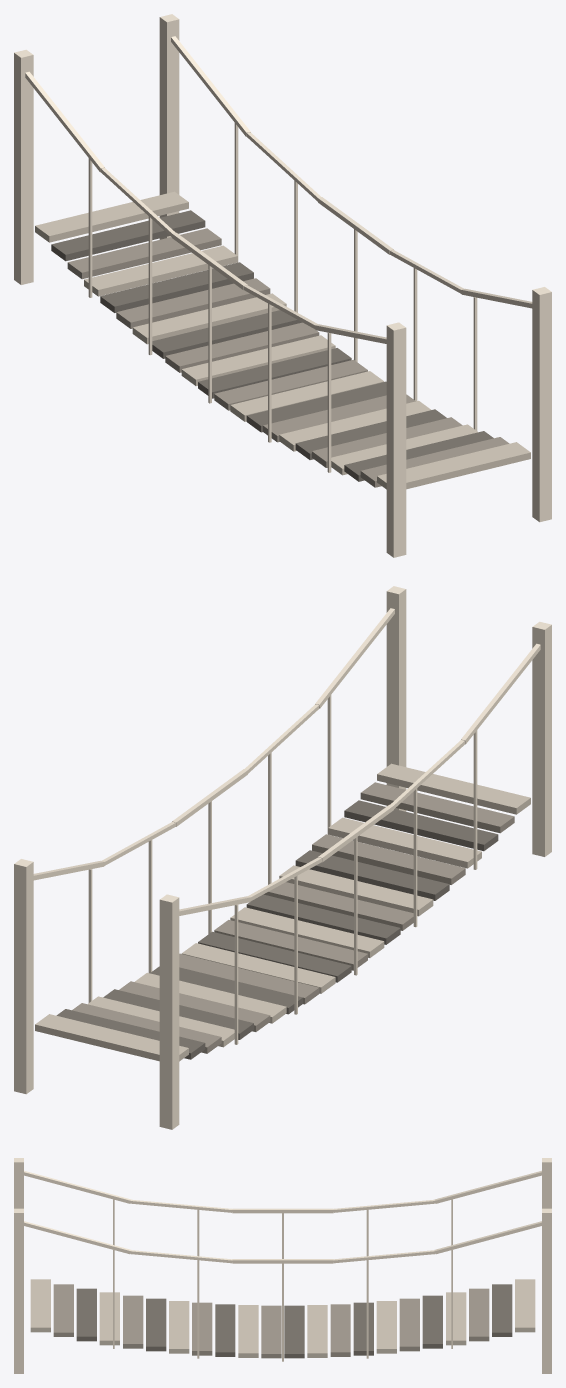
File: SM_VKI_Prop_RopeBridge_420.fbx
3 renders of one model, top to bottom at view 1: azimuth 30°, elevation 25°; view 2: azimuth 150°, elevation 25°; view 3: azimuth 270°, elevation 25°, orthographic. The views are drawn at different scales.
Visible parts, largest first — view 1: SM_VKI_Prop_RopeBridge_420.001; view 2: SM_VKI_Prop_RopeBridge_420.001; view 3: SM_VKI_Prop_RopeBridge_420.001.
Boxes of the visible parts, x1,y1,x2,y2 form: SM_VKI_Prop_RopeBridge_420.001: [14, 14, 551, 557]; SM_VKI_Prop_RopeBridge_420.001: [14, 586, 551, 1129]; SM_VKI_Prop_RopeBridge_420.001: [14, 1158, 551, 1373].
Size of the model in its own units: 1.02 by 1.4 by 4.24.
